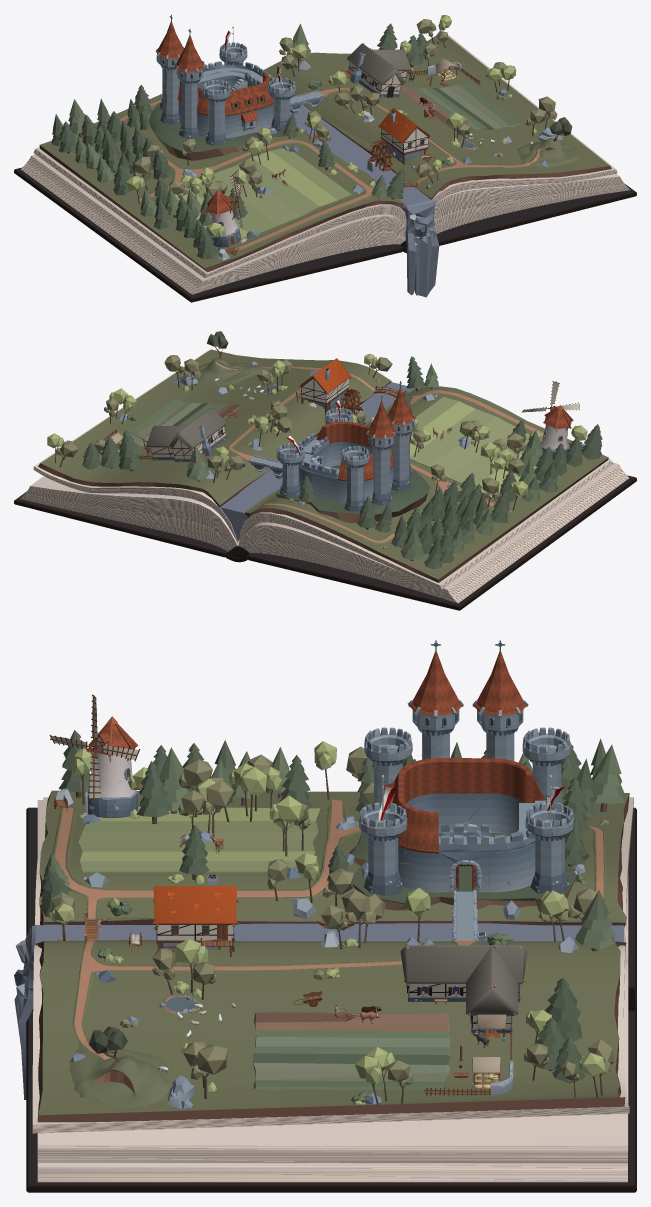
Rendered from island.glb.
The picture shows the model from 3 angles, top to bottom: view 1: azimuth 30°, elevation 25°; view 2: azimuth 150°, elevation 25°; view 3: azimuth 270°, elevation 25°; orthographic projection. The views are drawn at different scales.
Visible parts, largest first — view 1: Scene_Texture-base_0.001, Scene_Texture-base_0, Waterfall_Texture-base-gloss-jpg_0, Mill-water-wheel_Texture-base_0; view 2: Scene_Texture-base_0.001, Scene_Texture-base_0, Waterfall_Texture-base-gloss-jpg_0; view 3: Scene_Texture-base_0.001, Scene_Texture-base_0, Waterfall_Texture-base-gloss-jpg_0, Mill-wind-wheel_Texture-base_0.
Part boxes in pixels (x1,y1,x2,y2): Scene_Texture-base_0.001: [14, 15, 636, 302]; Scene_Texture-base_0: [52, 14, 480, 260]; Waterfall_Texture-base-gloss-jpg_0: [290, 105, 439, 297]; Mill-water-wheel_Texture-base_0: [367, 139, 393, 171]; Scene_Texture-base_0.001: [14, 331, 636, 610]; Scene_Texture-base_0: [82, 353, 602, 569]; Waterfall_Texture-base-gloss-jpg_0: [220, 382, 415, 541]; Scene_Texture-base_0.001: [26, 748, 636, 1192]; Scene_Texture-base_0: [14, 640, 624, 1095]; Waterfall_Texture-base-gloss-jpg_0: [14, 923, 624, 1099]; Mill-wind-wheel_Texture-base_0: [49, 694, 139, 799].
Size of the model in its own units: 103 by 46.41 by 72.32.
3 materials, 3 textured.
